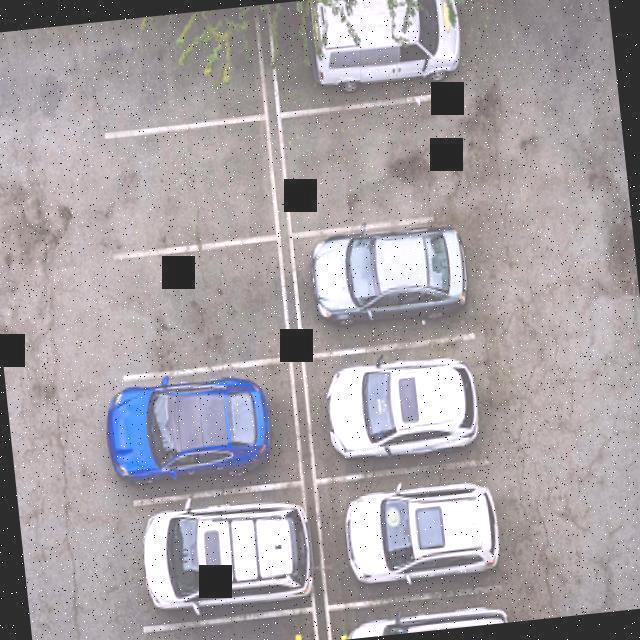space-empty: (103, 234, 289, 380), (278, 95, 461, 225), (100, 121, 279, 247), (105, 7, 264, 125)
space-occupied: (123, 477, 316, 624), (311, 465, 502, 600), (304, 342, 490, 478), (114, 361, 303, 492), (288, 218, 473, 347), (270, 0, 450, 114), (332, 592, 505, 640), (136, 610, 319, 640)
